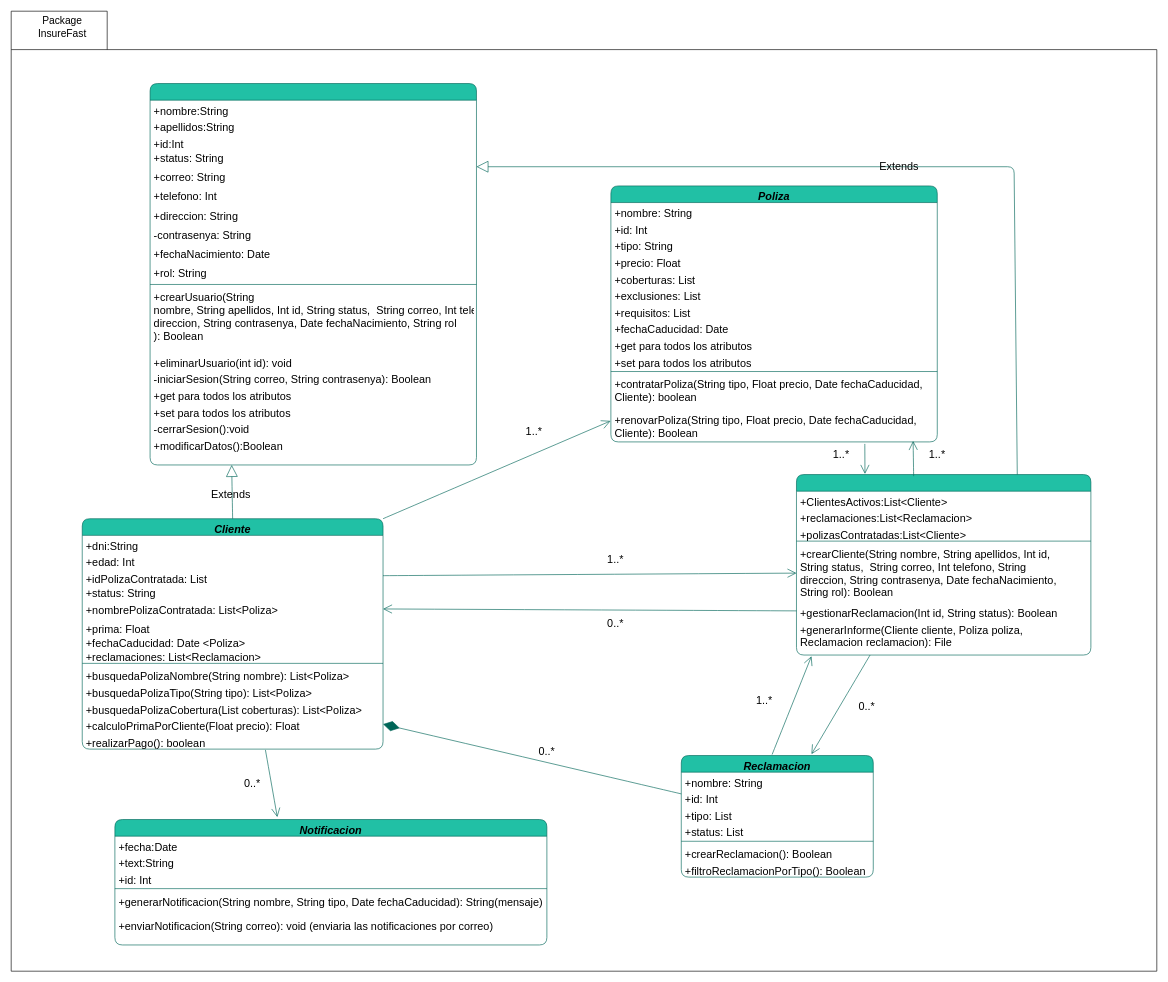
Image size: 1168x982. Some labels were removed from this diagram. The box of each missing label's shape, as (x1, y1, x2, y2) in pixels:
AgenteSeguro: (796, 474, 1091, 655)
Persona: (149, 83, 476, 465)
